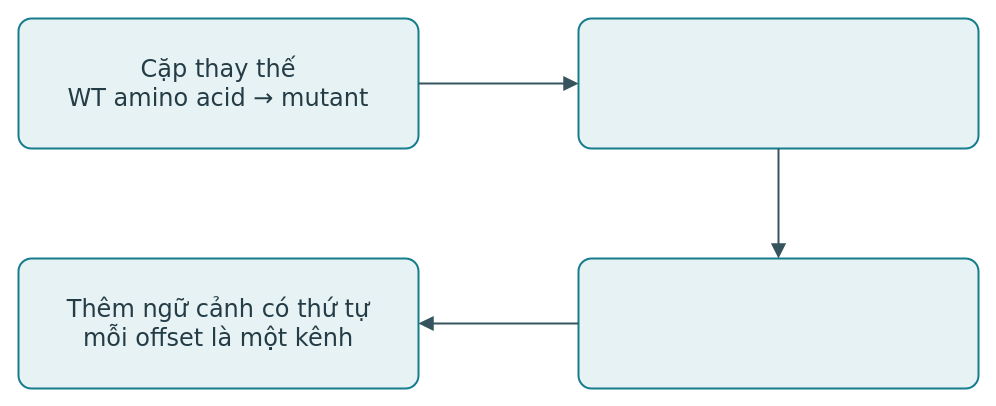
The diagram is 996 pixels wide and 406 high, and some of its shapes have lost their labels. Here are the shapes that lost their labels. From the top down, the centre of each, then its label:
(x=778, y=83): Thêm composition đếm thành phần peptide
(x=778, y=323): Thêm ngữ cảnh không thứ tự đếm amino acid trong cửa sổ
